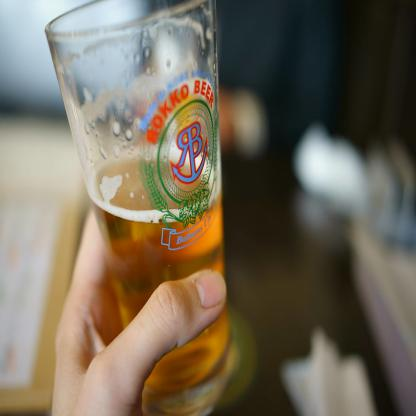drinking: (45, 0, 240, 415)
